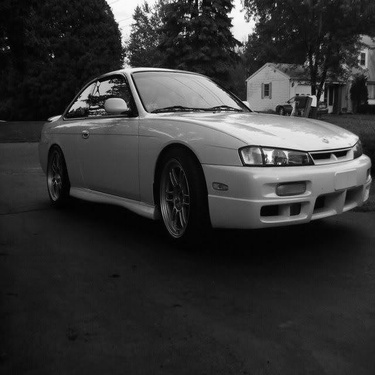car: (38, 61, 371, 243)
